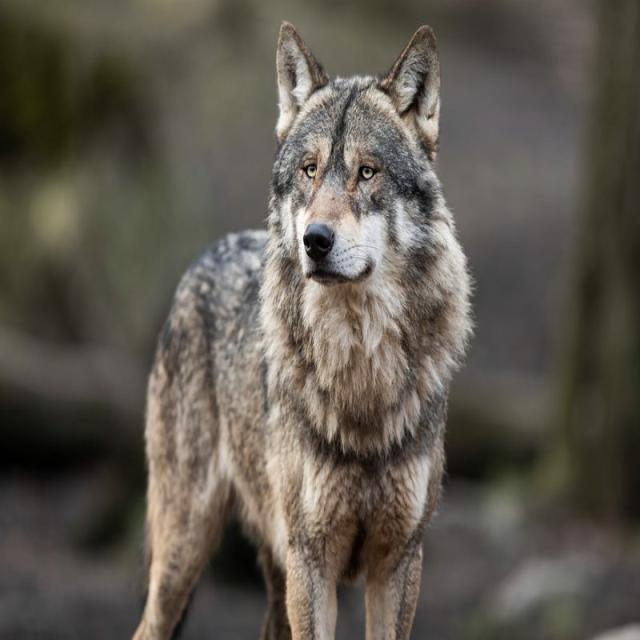wolf: (134, 23, 473, 639)
